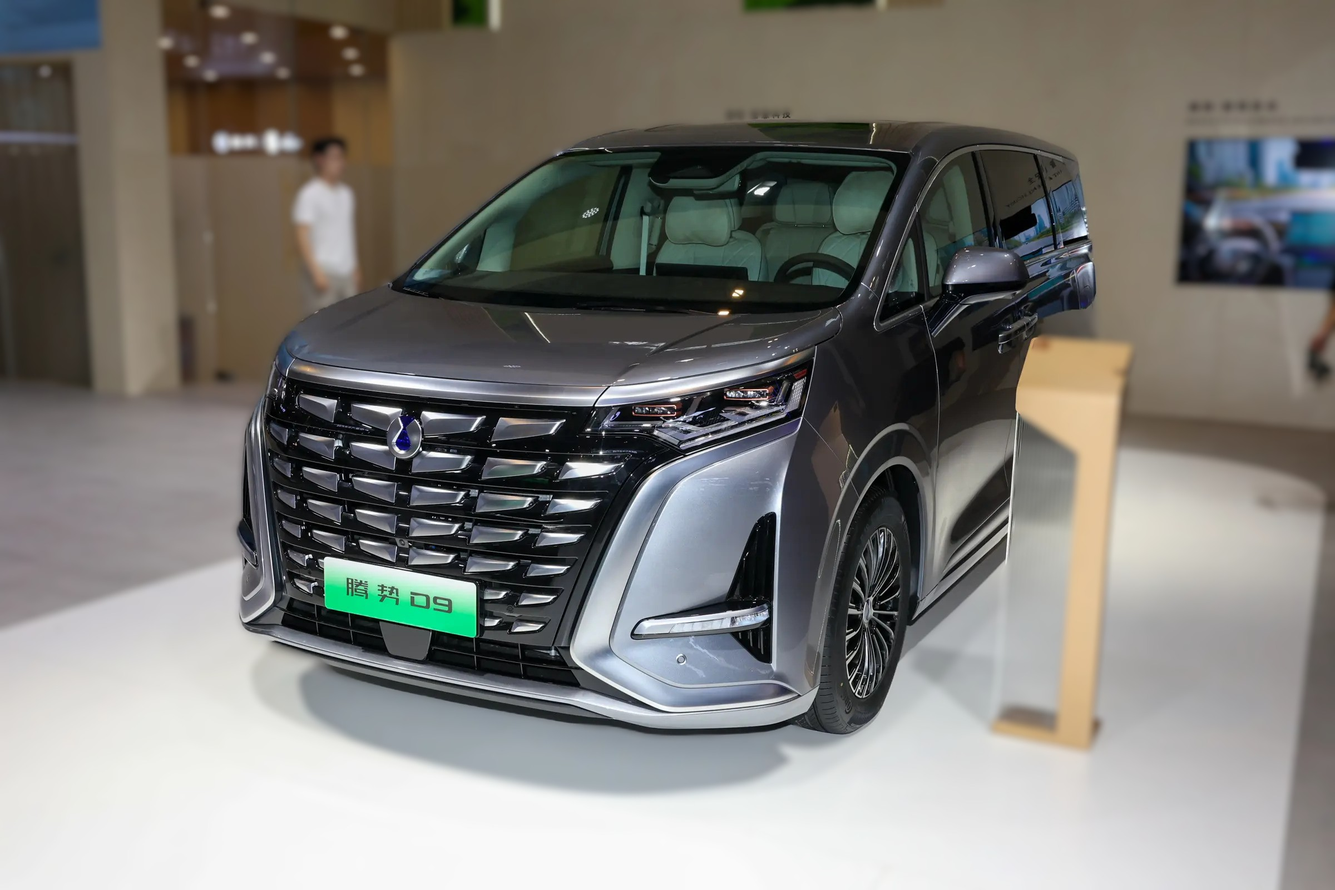DENZA: (388, 416, 421, 458)
